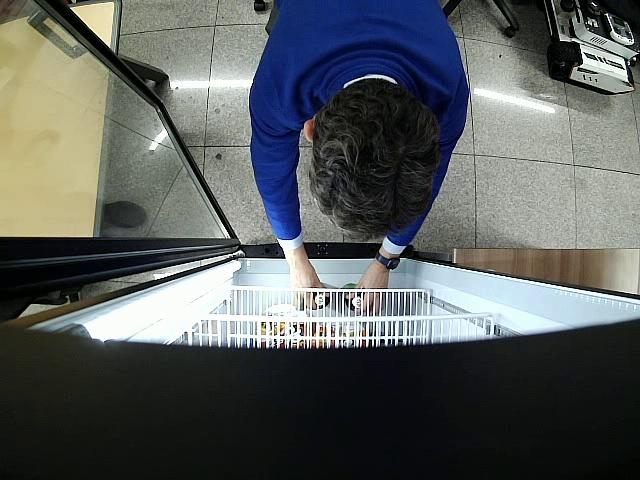00_hand: (285, 250, 325, 310), (357, 269, 389, 316)
19_17cha: (313, 292, 330, 310), (345, 292, 361, 310)
